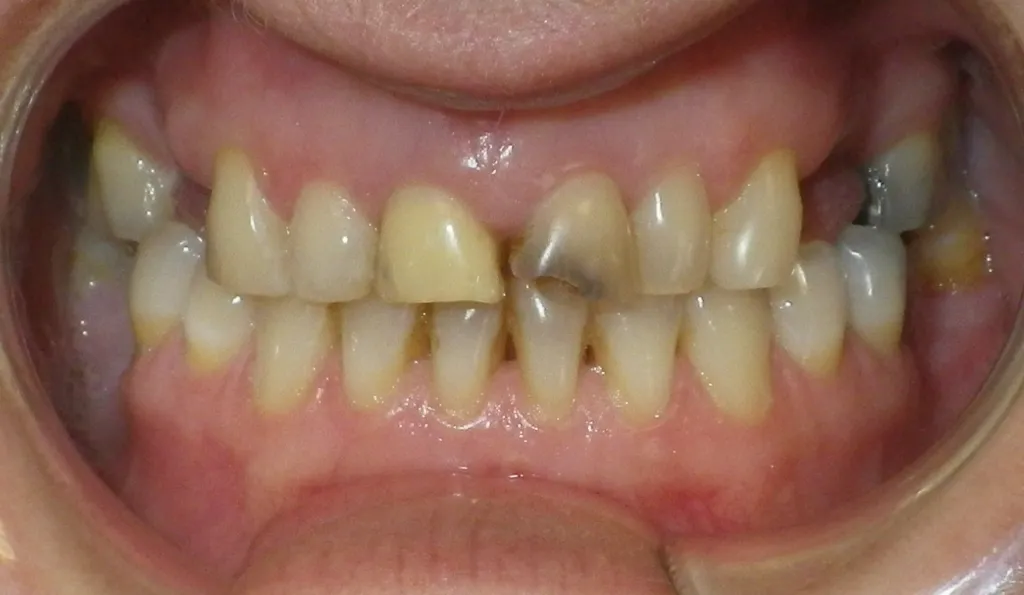LL1BC_healthy: (776, 260, 849, 376)
LL2BC_healthy: (845, 226, 908, 361)
LLCI_healthy: (512, 297, 588, 429)
LLC_healthy: (680, 288, 779, 418)
LLLI_healthy: (589, 295, 680, 418)
LR1BC_healthy: (190, 272, 247, 373)
LR2BC_healthy: (127, 240, 189, 342)
LRCI_healthy: (434, 296, 509, 417)
LRC_healthy: (257, 296, 332, 407)
LRLI_healthy: (338, 301, 422, 408)
UL1BC_sdecay: (805, 131, 874, 246)
UL2BC_mdecay: (871, 136, 946, 229)
ULCI_sdecay: (513, 171, 644, 309)
ULC_heathy: (713, 151, 801, 293)
ULLI_heathy: (633, 164, 710, 296)
UR1BC_sdecay: (162, 154, 211, 264)
UR2BC_heathy: (93, 130, 173, 244)
URCI_mdecay: (373, 180, 507, 308)
URC_mdecay: (211, 160, 296, 301)
URLI_healthy: (289, 183, 374, 312)
